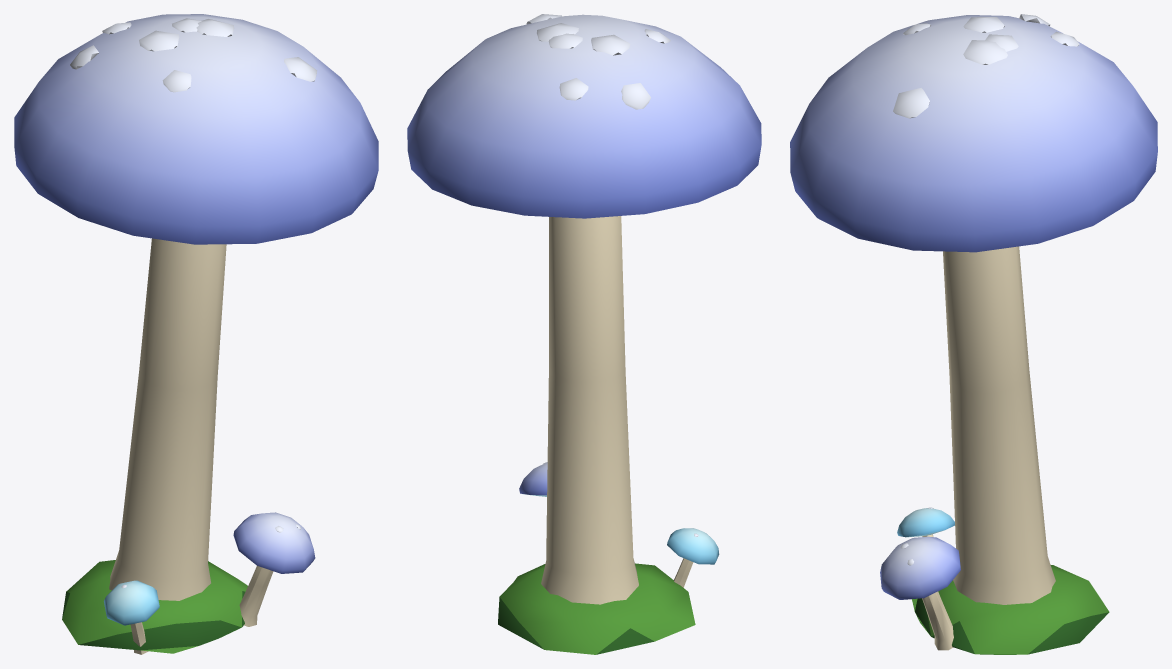
The model's file is GiantShroomA.fbx.
3 views of the same model, side by side, from view 1: azimuth 30°, elevation 25°; view 2: azimuth 150°, elevation 25°; view 3: azimuth 270°, elevation 25° (orthographic). The views are drawn at different scales.
Visible parts, largest first — view 1: GiantShroomA; view 2: GiantShroomA; view 3: GiantShroomA.
Boxes of the visible parts, <box> form: GiantShroomA: <box>14,14,378,654</box>; GiantShroomA: <box>407,14,761,654</box>; GiantShroomA: <box>790,14,1157,654</box>.
Size of the model in its own units: 1.94 by 3.41 by 1.91.
2 materials, 2 textured.
